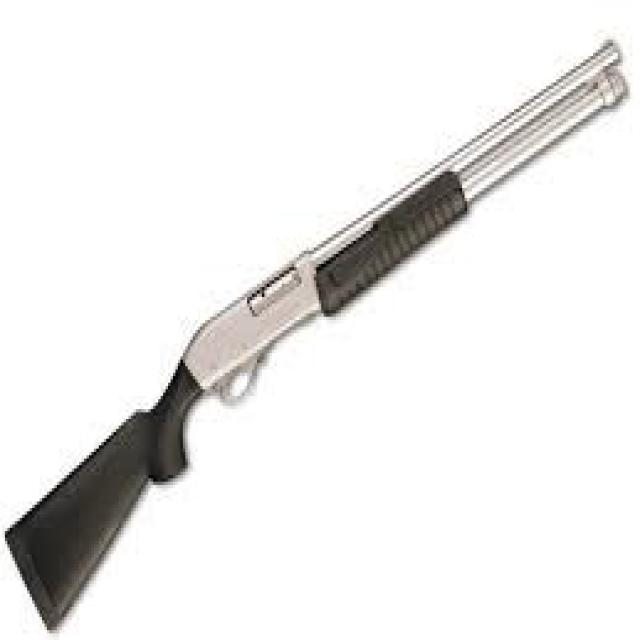rifle: (1, 31, 637, 640)
